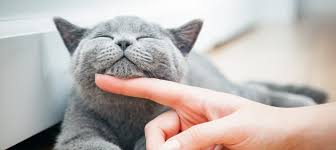cat: (47, 8, 206, 79)
